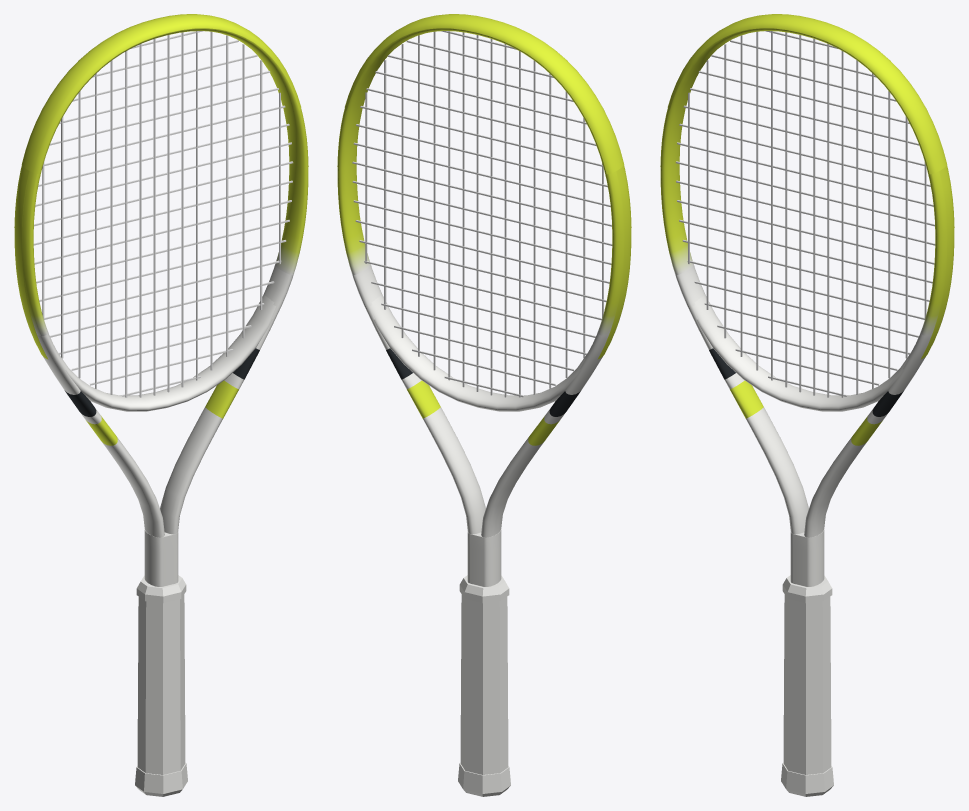
File: tecnifibre-fire-300-2026.glb
3 renders of one model, left to right at view 1: azimuth 30°, elevation 25°; view 2: azimuth 150°, elevation 25°; view 3: azimuth 330°, elevation 25°, orthographic.
Visible parts, largest first — view 1: frame, strings_mains, strings_crosses, grip, bumper, grommets, butt_cap, collar; view 2: frame, strings_mains, strings_crosses, grip, bumper, grommets, butt_cap, collar; view 3: frame, strings_mains, strings_crosses, grip, bumper, grommets, butt_cap, collar.
Boxes of the visible parts, x1,y1,x2,y2 form: frame: (14,28,308,586); strings_mains: (42,31,280,397); strings_crosses: (33,31,293,396); grip: (137,594,185,774); bumper: (21,14,301,174); grommets: (15,166,48,359); butt_cap: (135,762,187,796); collar: (136,575,186,603); frame: (337,28,631,586); strings_mains: (365,31,603,397); strings_crosses: (352,31,612,397); grip: (460,594,508,774); bumper: (344,14,624,174); grommets: (597,166,630,359); butt_cap: (458,762,510,796); collar: (459,575,509,603); frame: (660,28,954,586); strings_mains: (688,31,926,397); strings_crosses: (675,31,935,396); grip: (783,594,831,774); bumper: (667,14,947,174); grommets: (920,166,953,359); butt_cap: (781,762,833,796); collar: (782,575,832,603).
Size of the model in its own units: 0.2687 by 0.6861 by 0.0378.
